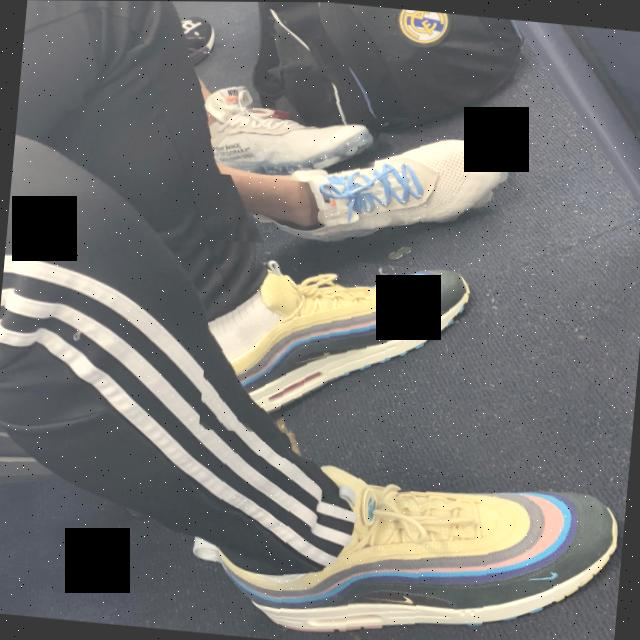shoe: (175, 448, 626, 640), (198, 248, 486, 454), (206, 117, 518, 267), (193, 77, 384, 187)
